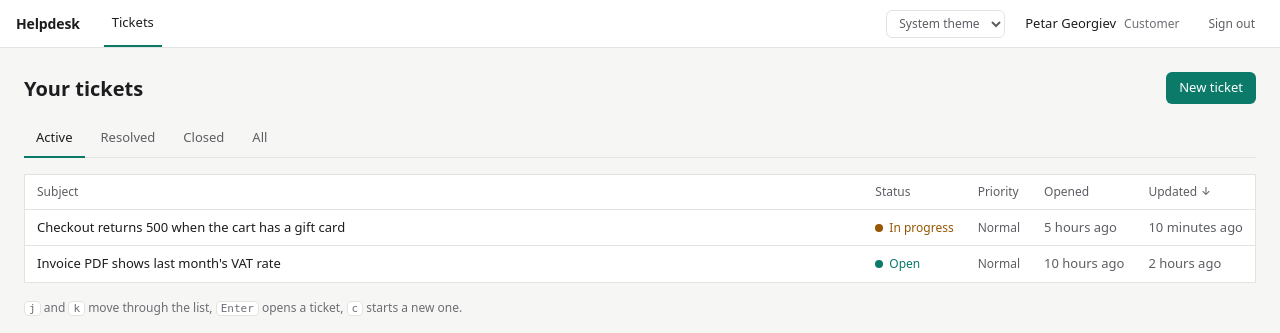
Test case: the ticket list › switches to resolved tickets and keeps the choice in the address
Expected: the table is shown, x1=24 y1=174 x2=1256 y2=282
Click the button "Resolved" at [128, 139], box x1=88 y1=120 x2=167 y2=158
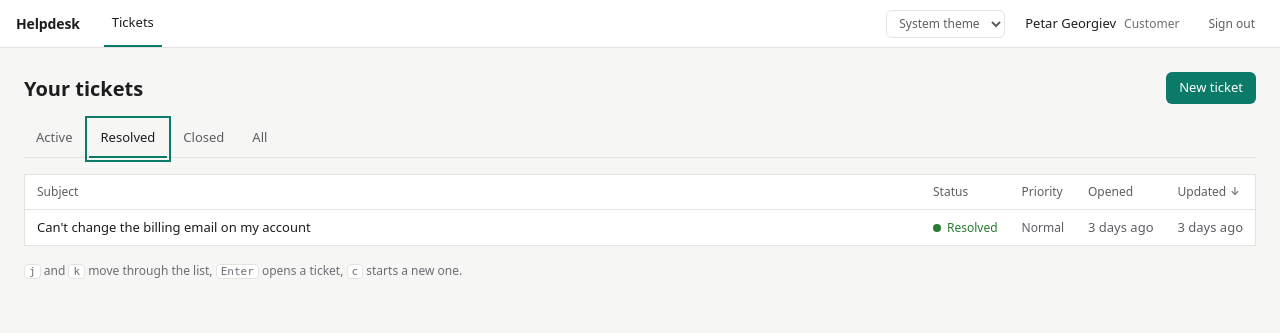
Expected: the link "Can't change the billing email on my account" is shown, x1=37 y1=218 x2=311 y2=236
